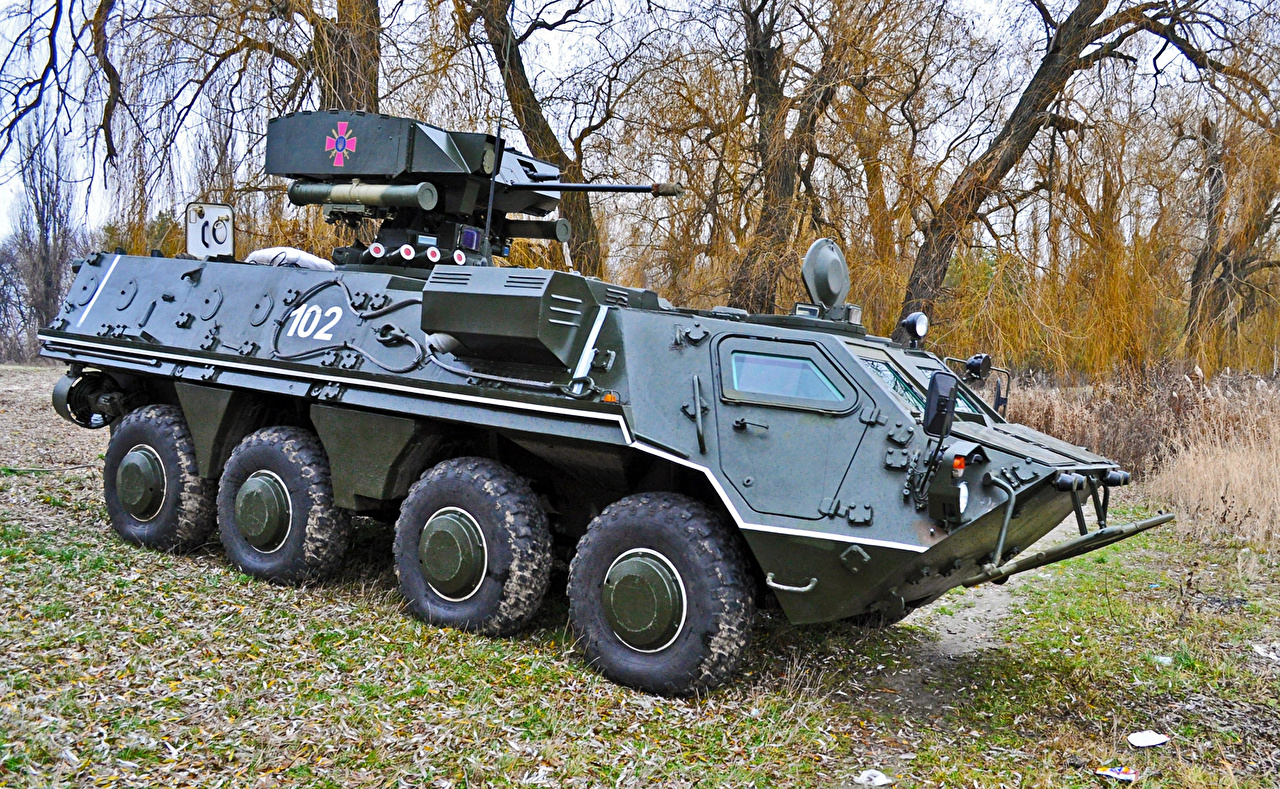btr: (52, 103, 1151, 695)
